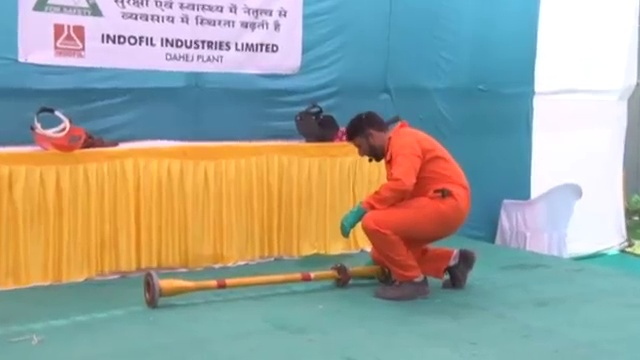helmet_off: (345, 110, 389, 166)
person: (336, 106, 478, 306)
